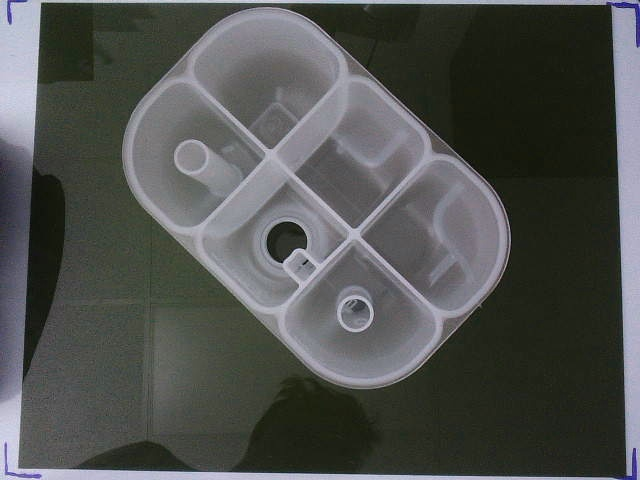reservoir_transparent_Under: (122, 9, 512, 388)
